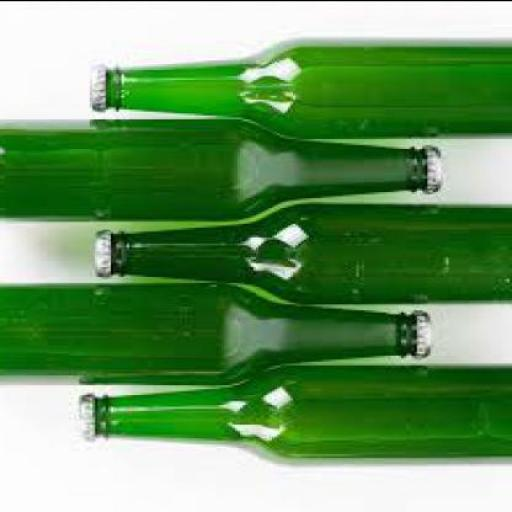glass: (2, 118, 424, 224), (3, 284, 417, 386), (116, 203, 510, 307), (98, 364, 511, 457), (111, 44, 511, 140)
metal: (95, 232, 119, 278), (92, 69, 114, 112), (417, 313, 436, 359), (84, 398, 103, 443), (425, 148, 443, 194)
